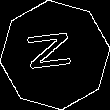N_E: (28, 32, 82, 78)
